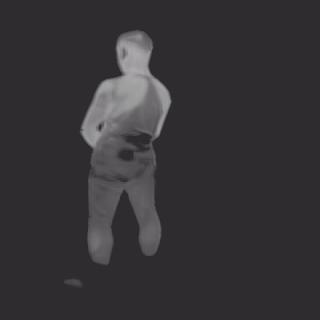Gun: (116, 132, 152, 162)
